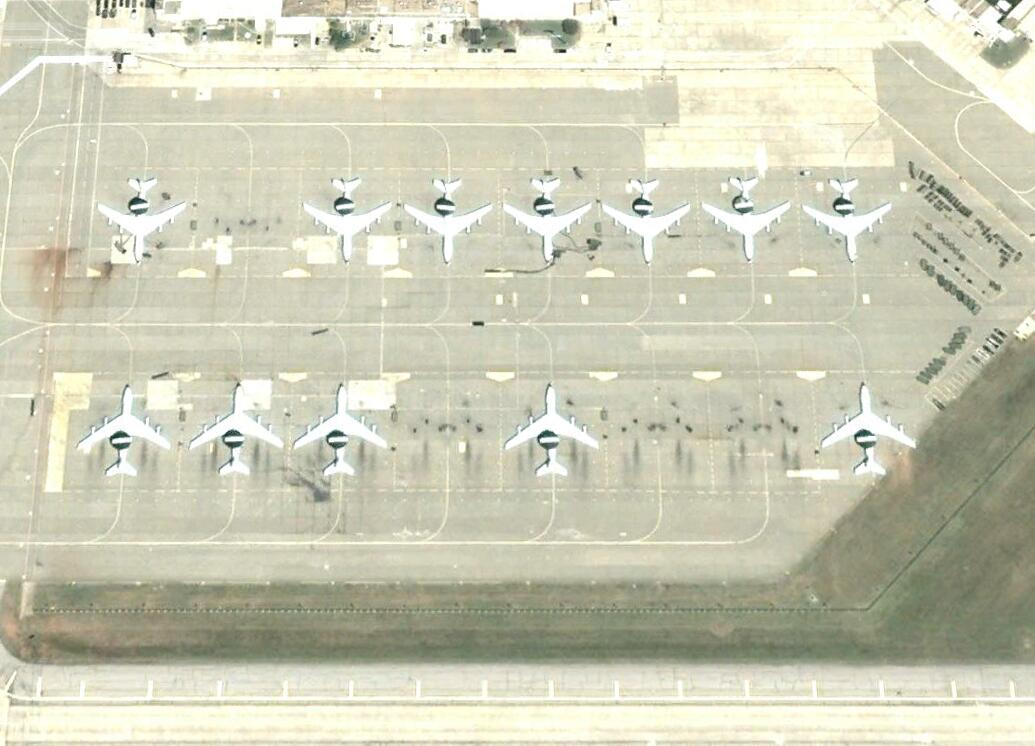A7: (503, 383, 603, 481), (821, 382, 921, 479), (291, 384, 388, 480), (76, 389, 174, 478), (189, 385, 285, 474), (803, 177, 895, 268), (700, 174, 794, 262), (302, 178, 393, 266), (95, 177, 187, 264), (600, 177, 693, 263), (503, 179, 593, 266), (405, 178, 493, 266)
